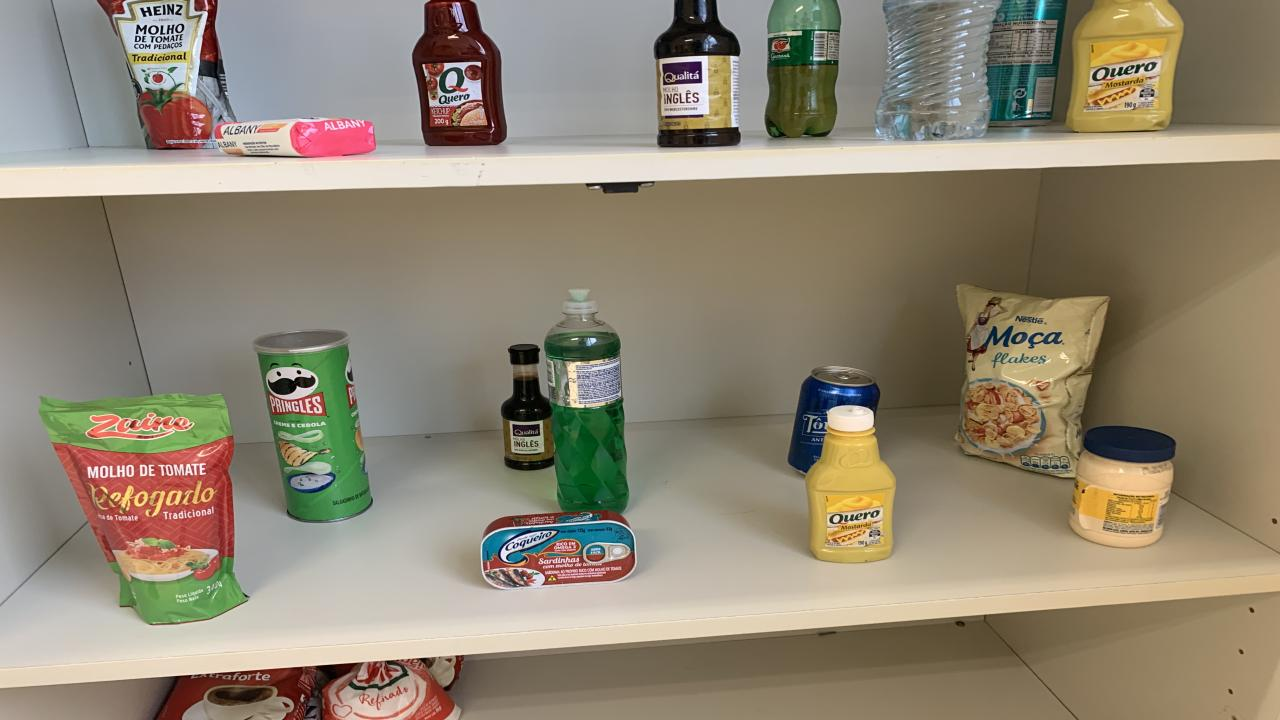Detergent-Cleanup_Items: (545, 291, 628, 512)
English_Sauce-Pantry_Items: (500, 345, 555, 471), (655, 0, 740, 60)
Flakes-Snacks: (955, 285, 1108, 478)
Guarana-Drinks: (765, 0, 840, 137)
Ketchup-Pantry_Items: (412, 0, 508, 146)
Mayonnaise-Pantry_Items: (1070, 426, 1175, 548)
Mustard-Pantry_Items: (1065, 0, 1182, 131), (805, 405, 895, 562)
Pringles-Snacks: (252, 330, 372, 521)
Soap-Cleanup_Items: (212, 118, 375, 158)
Tea-Drinks: (988, 0, 1068, 126)
Tomato_Sauce-Pantry_Items: (40, 394, 248, 624), (98, 0, 235, 148)
Tonic-Drinks: (788, 366, 880, 472)
Tuna_Can-Pantry_Items: (480, 510, 638, 589)
Water_Bottle-Drinks: (875, 0, 1000, 141)
